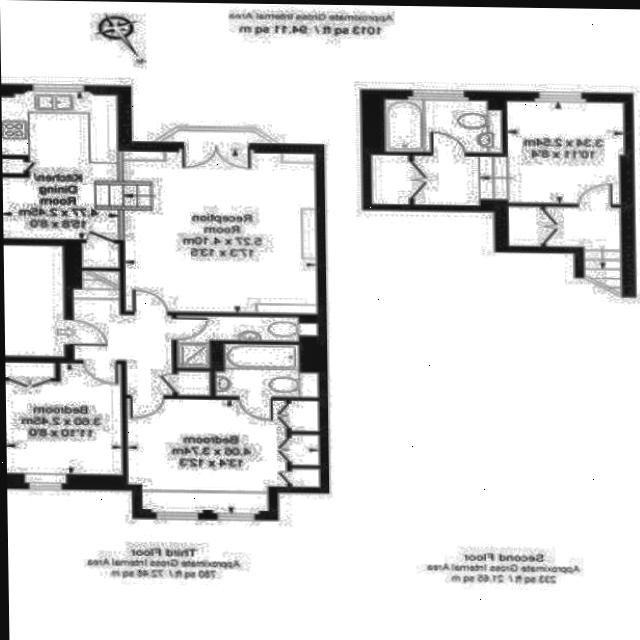room: (2, 92, 316, 313), (126, 400, 320, 512), (4, 363, 124, 474), (506, 101, 627, 204), (75, 290, 172, 395), (371, 155, 508, 206), (176, 316, 300, 369), (384, 100, 504, 154), (216, 344, 320, 398), (509, 206, 621, 247), (584, 250, 621, 296), (83, 243, 119, 268), (178, 371, 210, 396)
